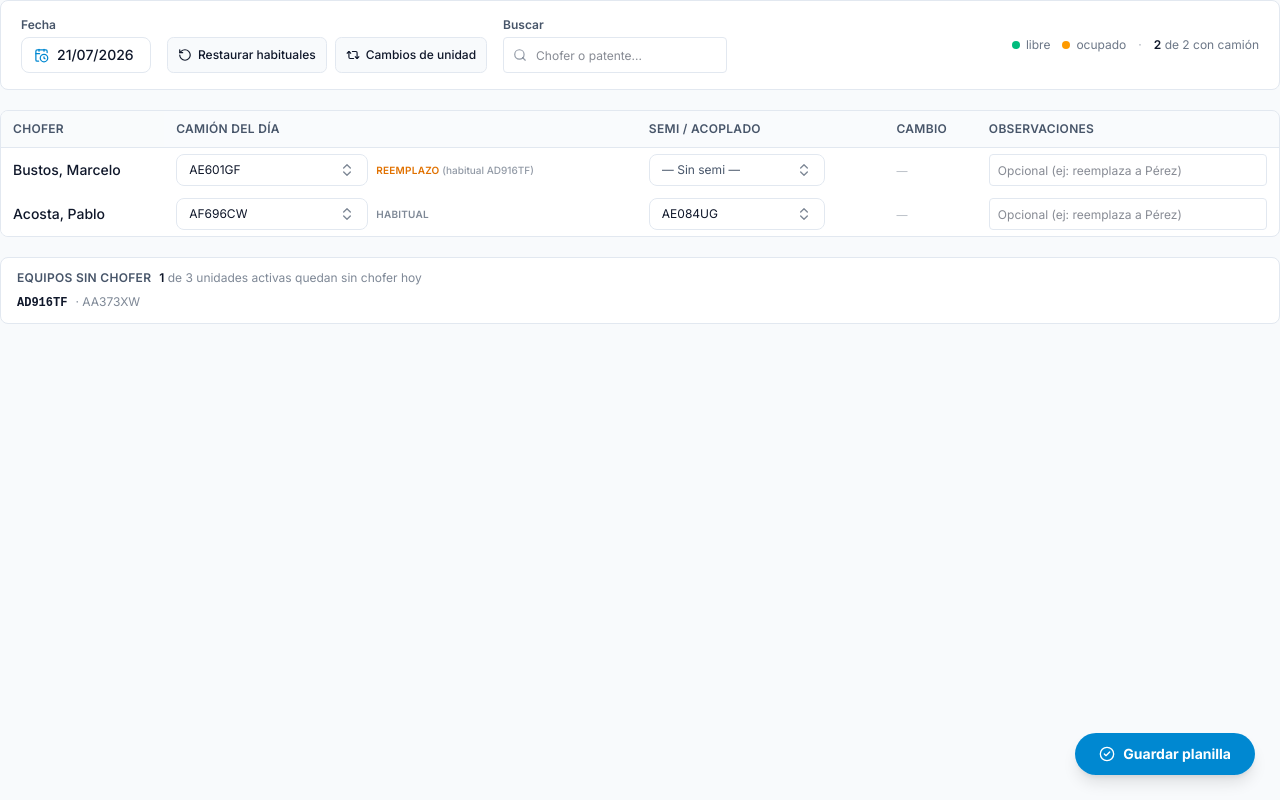
Test: PlanillaDiariaClient · buscador › filtra por apellido
Type "acos" into the search field labelled "Buscar".
click(615, 55); type("acos")  # box [503,37,727,73]
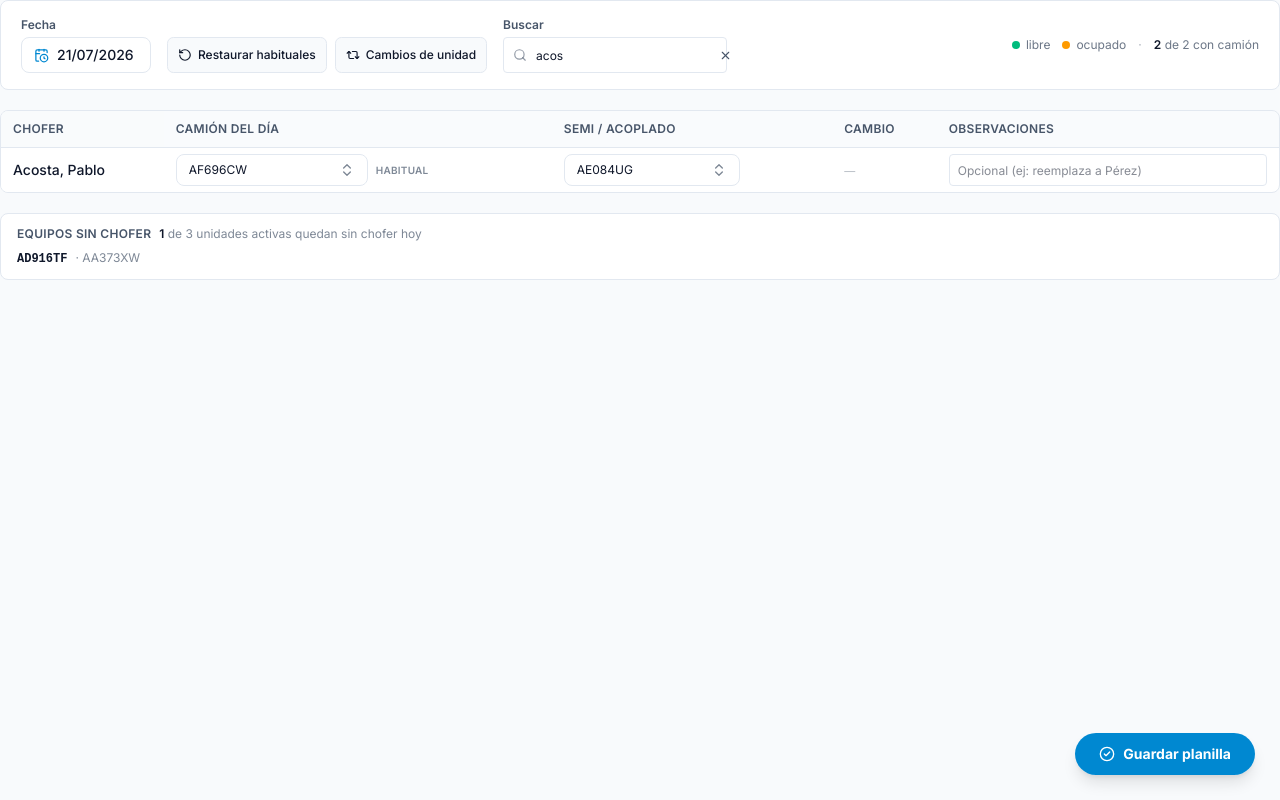
Expected: the text "Acosta, Pablo" is shown, [13,161,105,178]
Result: the text "Bustos," is gone
